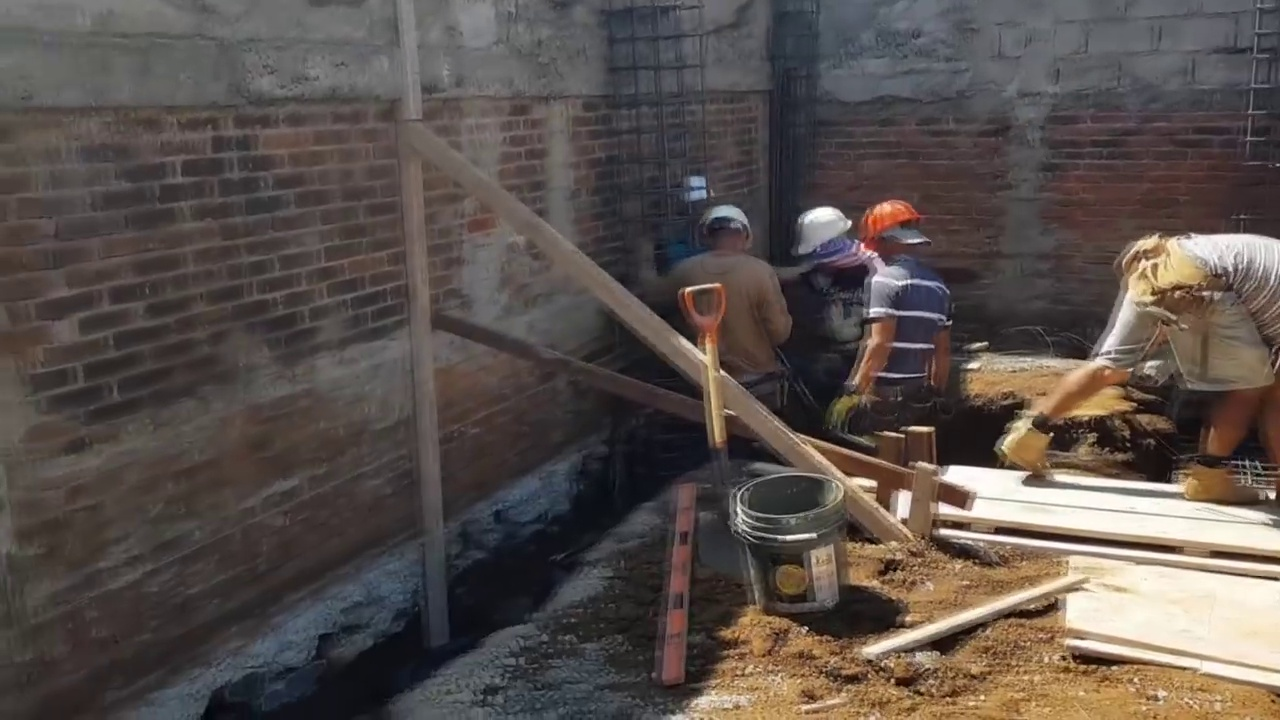helmet: (857, 198, 929, 248), (789, 204, 843, 252), (699, 196, 752, 238)
helmet-on: (786, 201, 863, 279), (866, 196, 931, 279), (697, 198, 752, 255)
person: (1003, 234, 1280, 492), (673, 193, 786, 402), (844, 212, 949, 434), (786, 204, 869, 403)
